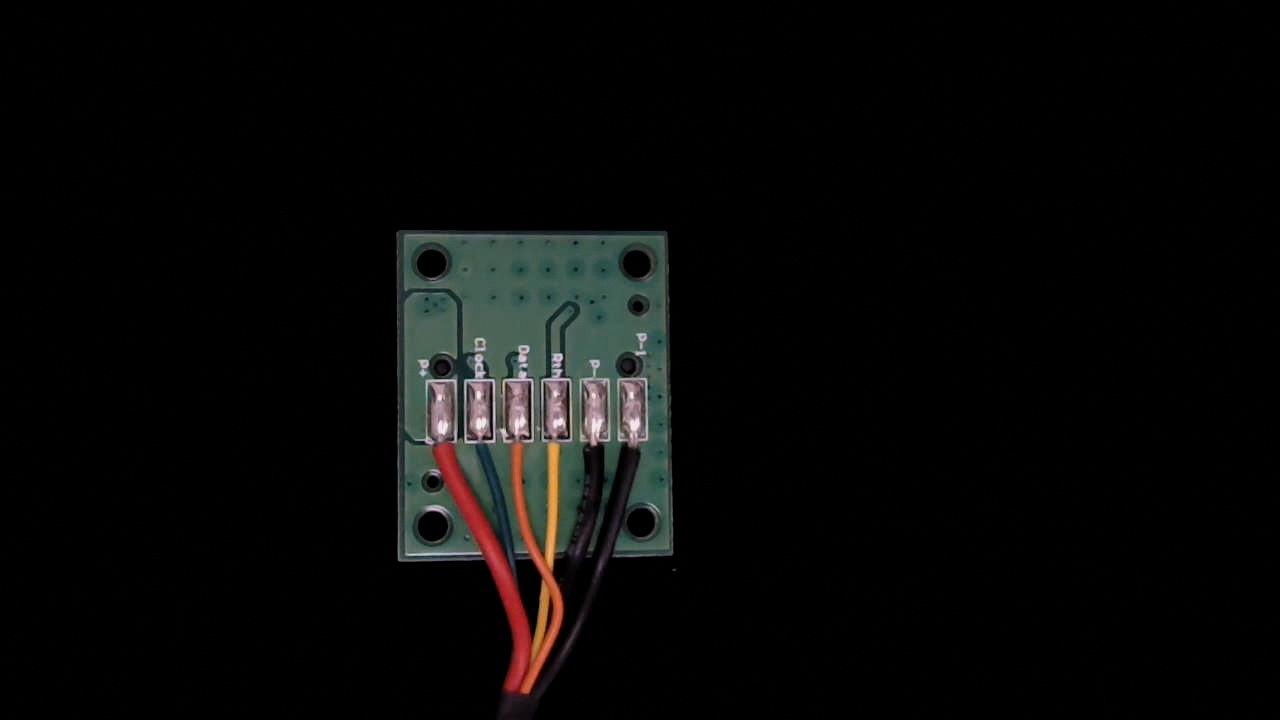Black: (579, 424, 613, 497)
Black1: (618, 424, 651, 491)
Green: (467, 424, 499, 487)
Orange: (501, 426, 534, 498)
Red: (423, 427, 457, 497)
Yellow: (539, 424, 573, 498)
